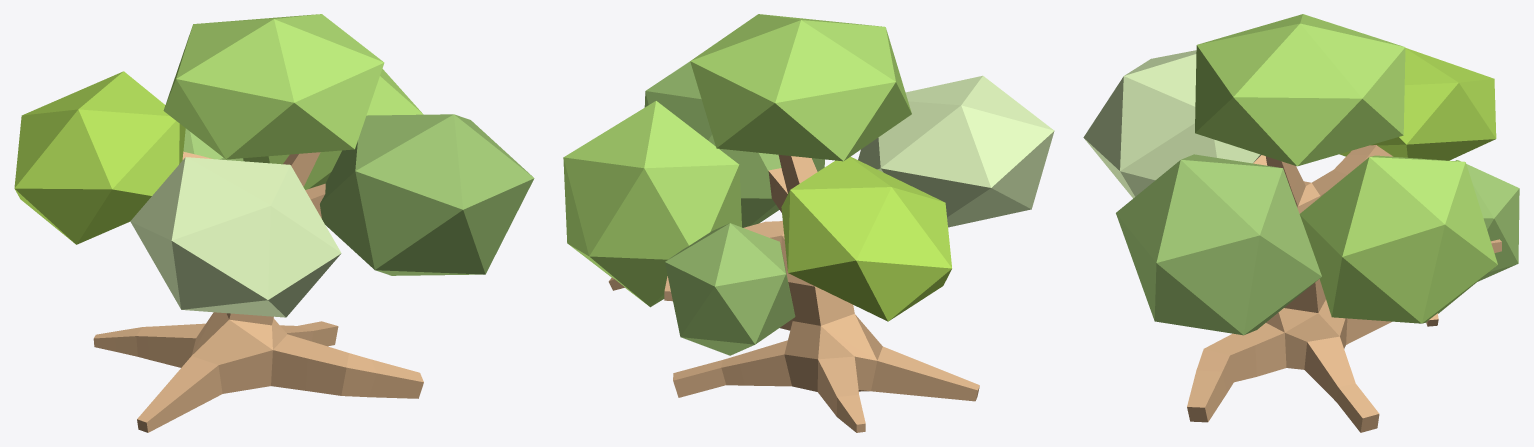
File: Tree.fbx
3 views of the same model, side by side, from view 1: azimuth 30°, elevation 25°; view 2: azimuth 150°, elevation 25°; view 3: azimuth 270°, elevation 25° (orthographic).
Visible parts, largest first — view 1: ICO球.005, ICO球.001, ICO球.003, ICO球, Cube, ICO球.004, ICO球.002; view 2: ICO球.001, ICO球.004, ICO球, Cube, ICO球.003, ICO球.002, ICO球.005; view 3: ICO球.005, ICO球.001, ICO球.004, Cube, ICO球.003, ICO球, ICO球.002.
Boxes of the visible parts, x1,y1,x2,y2 form: ICO球.005: (320, 114, 534, 275); ICO球.001: (163, 14, 384, 159); ICO球.003: (130, 157, 341, 317); ICO球: (14, 71, 185, 244); Cube: (93, 151, 423, 432); ICO球.004: (243, 69, 423, 189); ICO球.002: (183, 128, 243, 161); ICO球.001: (690, 14, 911, 161); ICO球.004: (563, 101, 741, 307); ICO球: (781, 156, 952, 321); Cube: (608, 155, 979, 432); ICO球.003: (858, 75, 1054, 227); ICO球.002: (665, 223, 795, 355); ICO球.005: (644, 61, 824, 227); ICO球.005: (1116, 154, 1321, 335); ICO球.001: (1195, 14, 1405, 166); ICO球.004: (1299, 155, 1497, 323); Cube: (1187, 145, 1501, 432); ICO球.003: (1083, 50, 1260, 198); ICO球: (1339, 48, 1496, 160); ICO球.002: (1455, 160, 1519, 281).
Size of the model in its own units: 3961 by 3570 by 3862.
